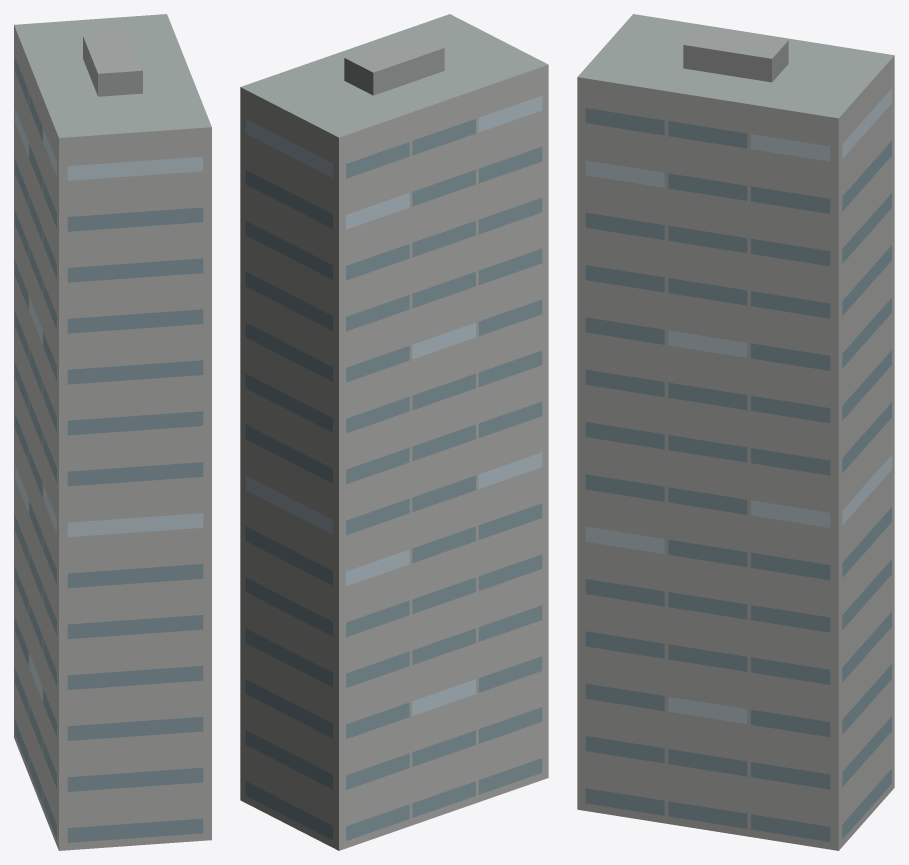
Rendered from fallback-jamsil-els-112.glb.
3 views of the same model, side by side, from view 1: azimuth 30°, elevation 25°; view 2: azimuth 150°, elevation 25°; view 3: azimuth 270°, elevation 25° (orthographic). The views are drawn at different scales.
Visible parts, largest first — view 1: fallback-jamsil-els-112; view 2: fallback-jamsil-els-112; view 3: fallback-jamsil-els-112.
Boxes of the visible parts, <box> form: fallback-jamsil-els-112: <box>14,14,211,850</box>; fallback-jamsil-els-112: <box>240,14,548,850</box>; fallback-jamsil-els-112: <box>577,14,894,850</box>.
Bounding box in the file's own units: 22.8 × 77 × 29.28.
